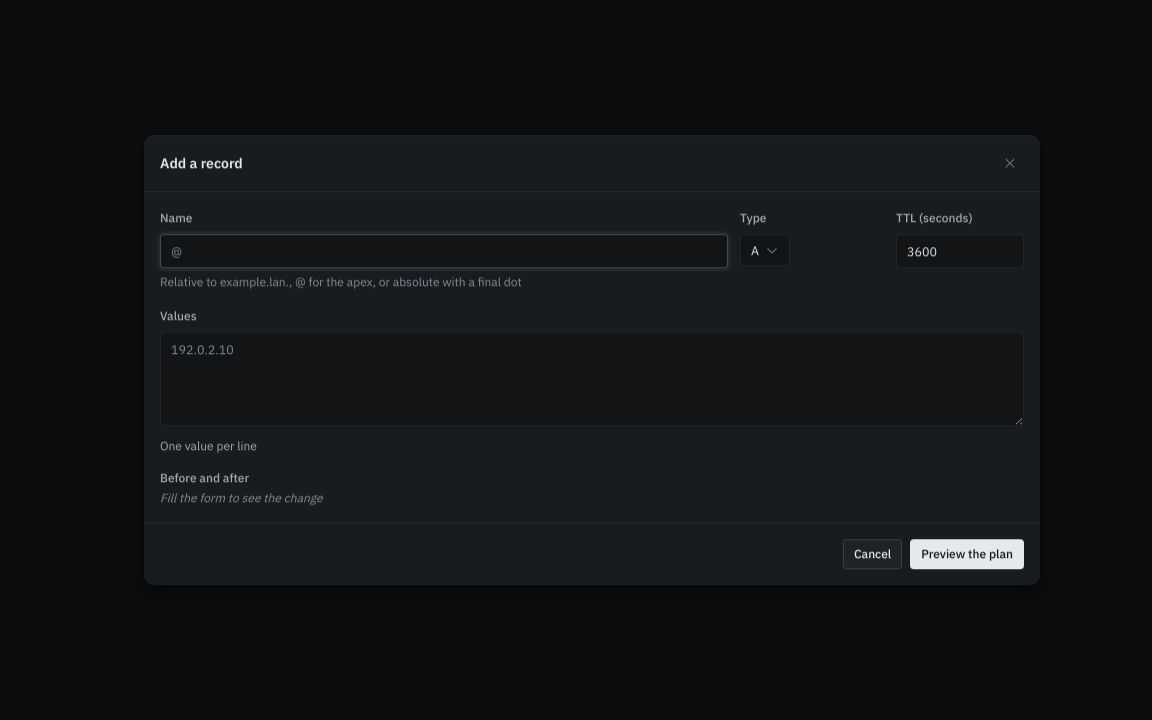
RecordEditor TTL › a negative TTL says why instead of being blocked silently by the browser
Type "app" into the field with test id "record-owner" at (444, 251), box [160, 234, 728, 268]
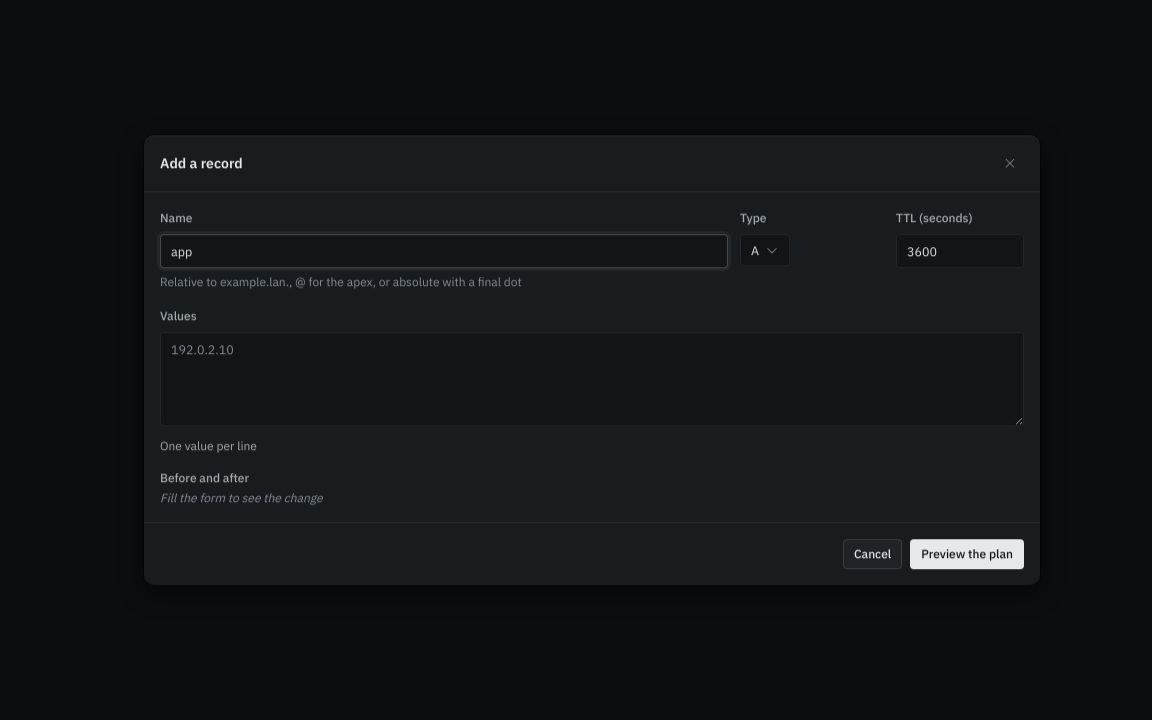
Replace the text in the number field with test id "record-ttl" with "-5" at (960, 251), box [896, 234, 1024, 268]
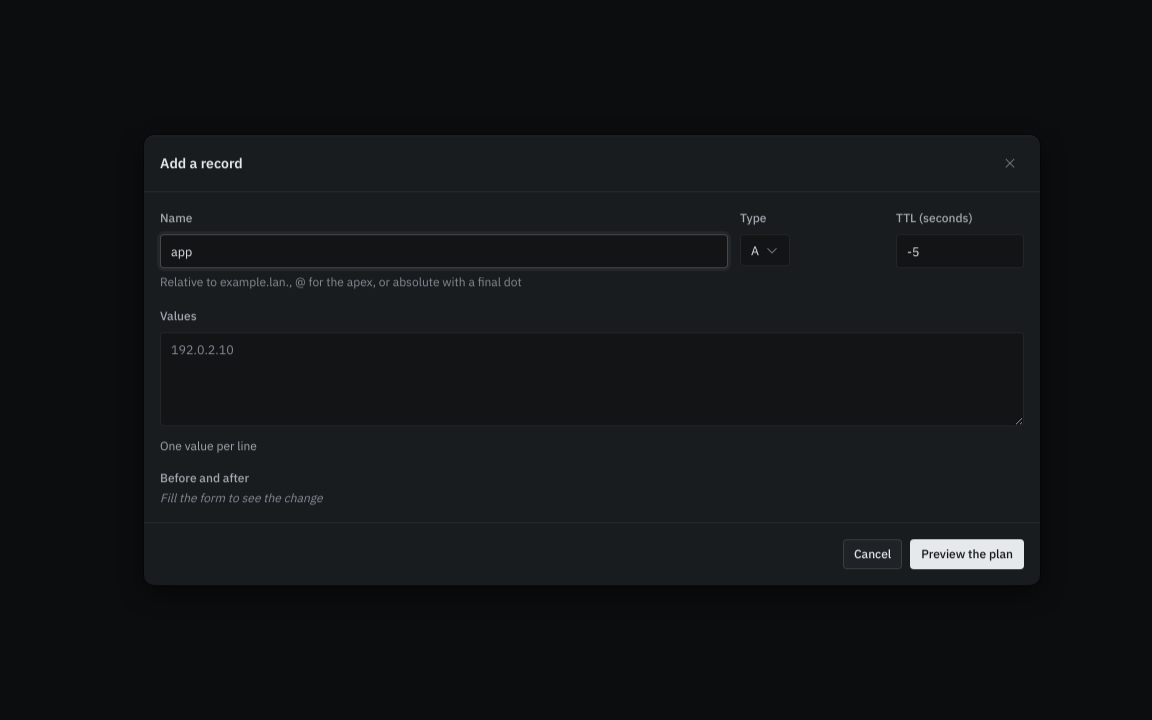
Type "192.0.2.60" into the text box with test id "record-rdata" at (592, 379), box [160, 332, 1024, 426]
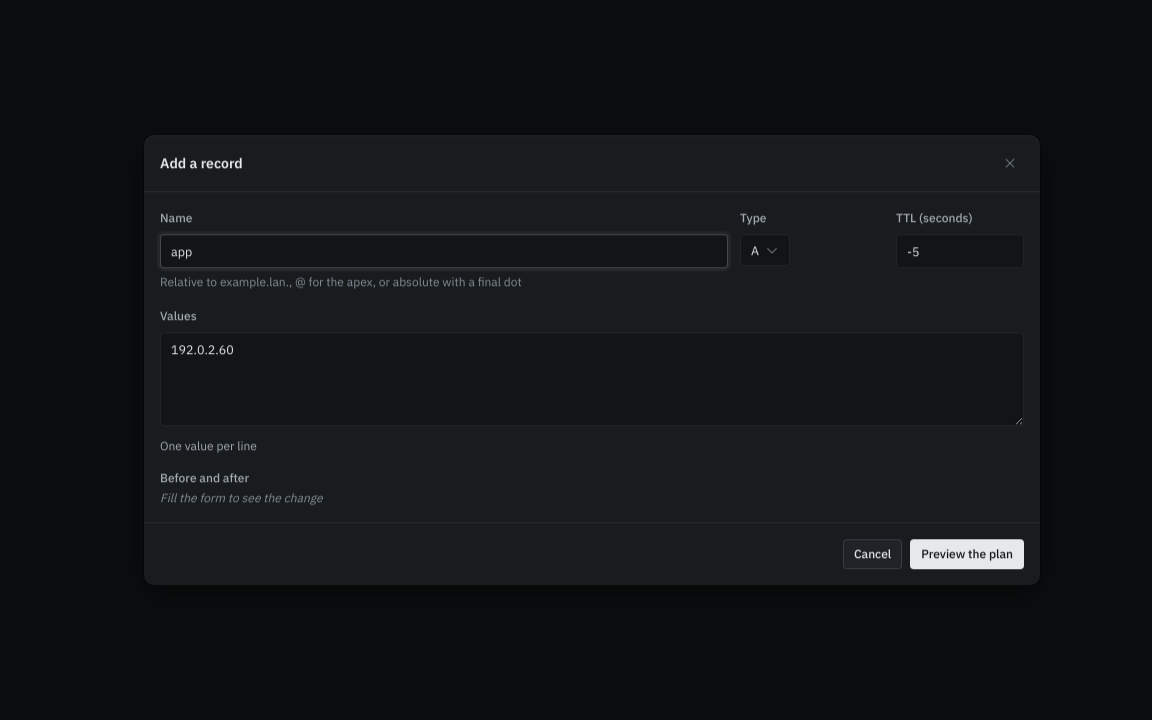
Click the button "Preview the plan" at (967, 554), box [910, 539, 1024, 569]
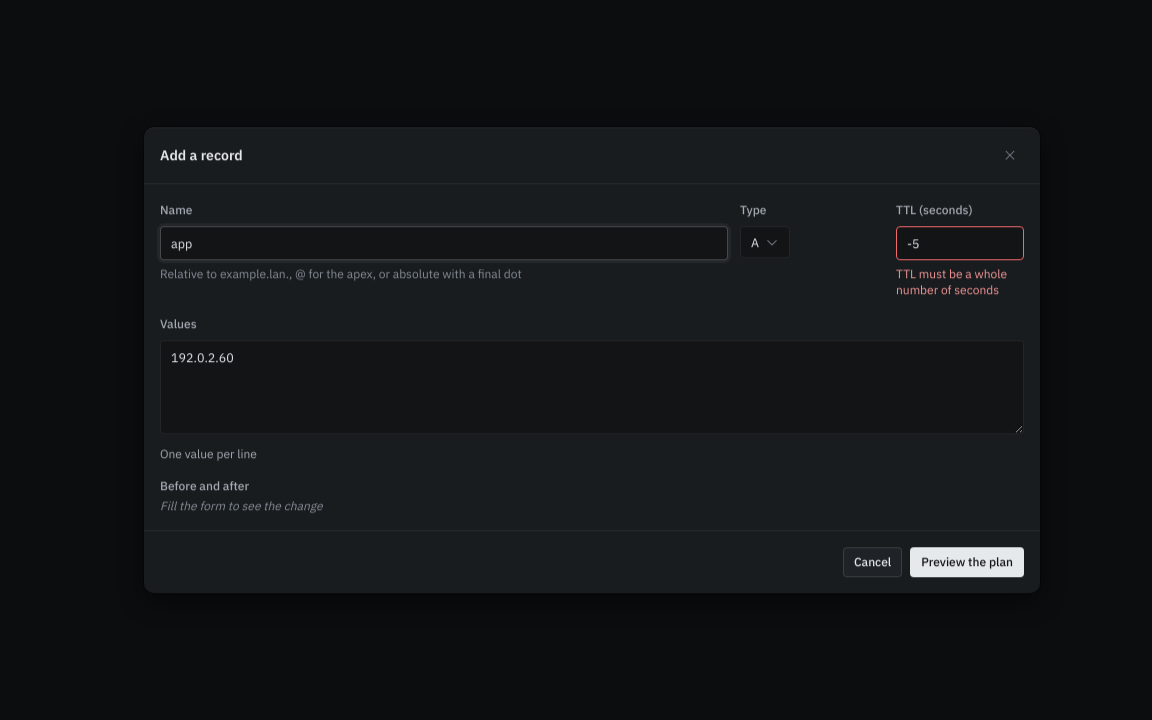
Expected: the text "TTL must be a whole number of seconds" is shown, [896, 266, 1024, 298]
